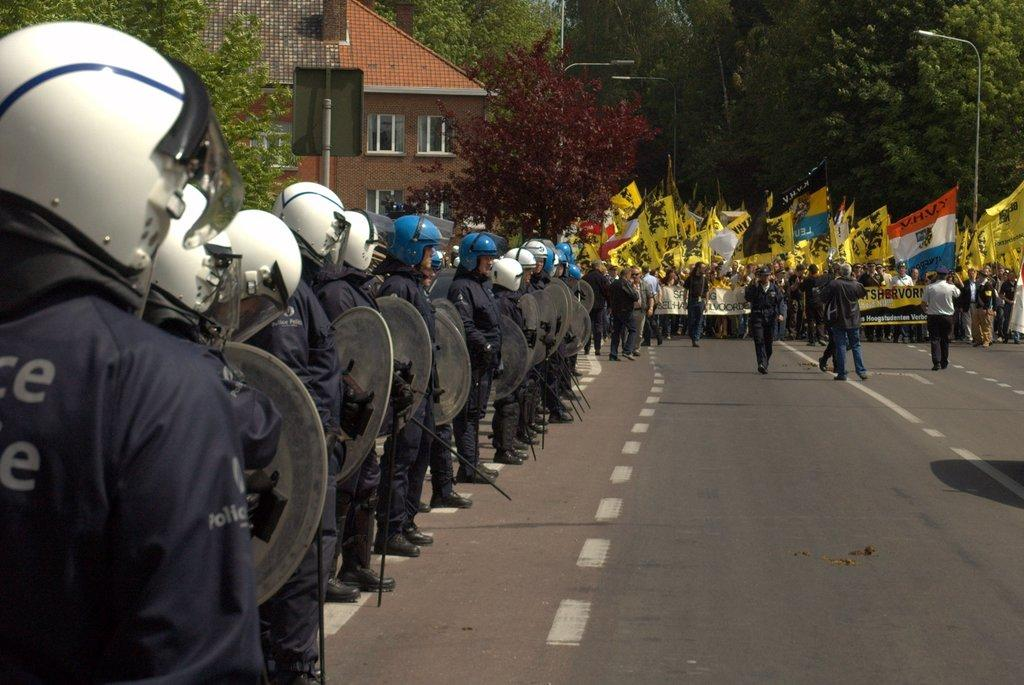helmet: (0, 20, 245, 279), (110, 176, 242, 330), (202, 209, 302, 352), (271, 181, 351, 265), (324, 209, 395, 272), (386, 215, 443, 269), (459, 232, 497, 273), (491, 257, 524, 293)
